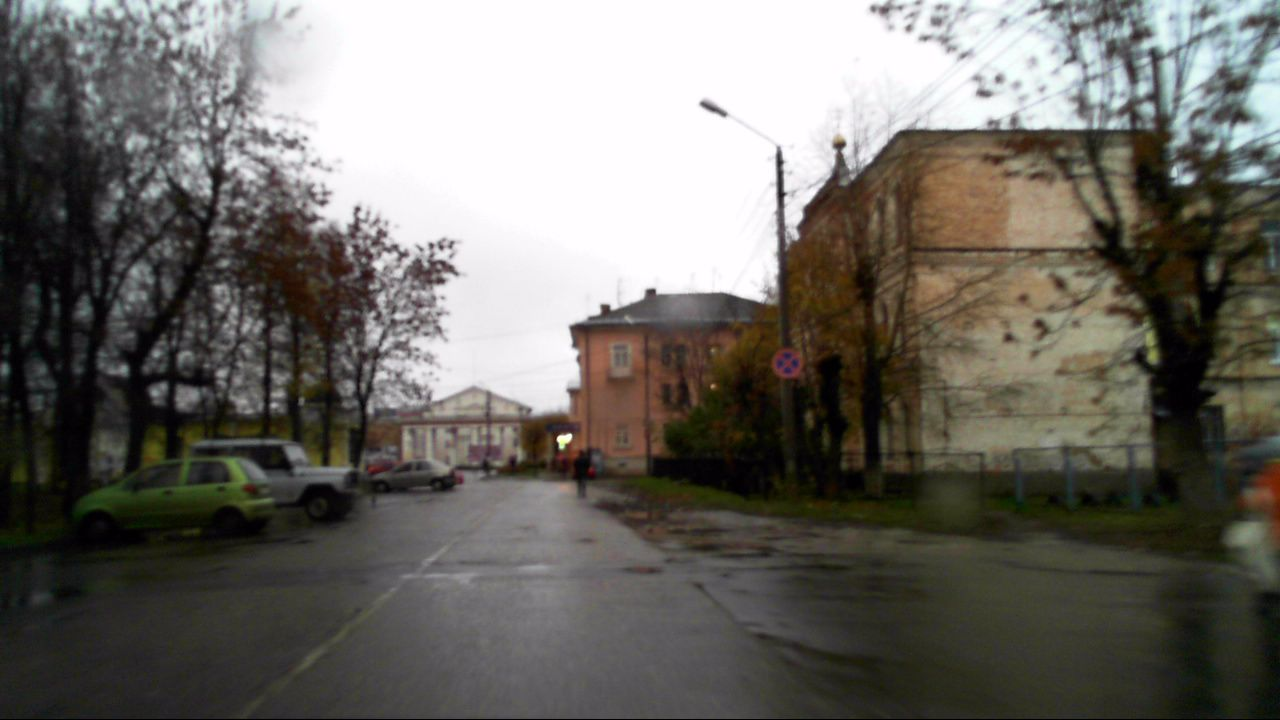No Parking: (770, 347, 803, 380)
